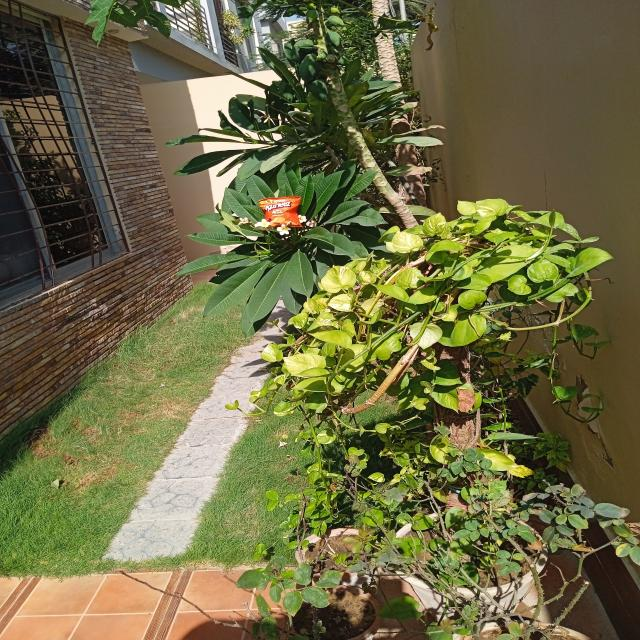Plastic: (258, 196, 302, 230)
